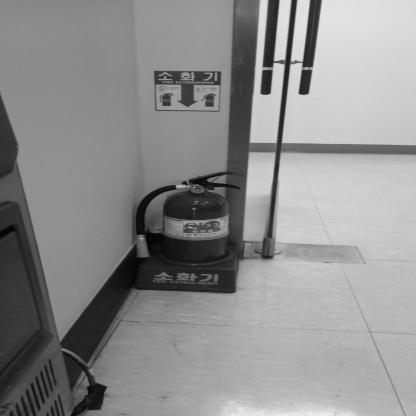FE: (136, 170, 240, 293)
